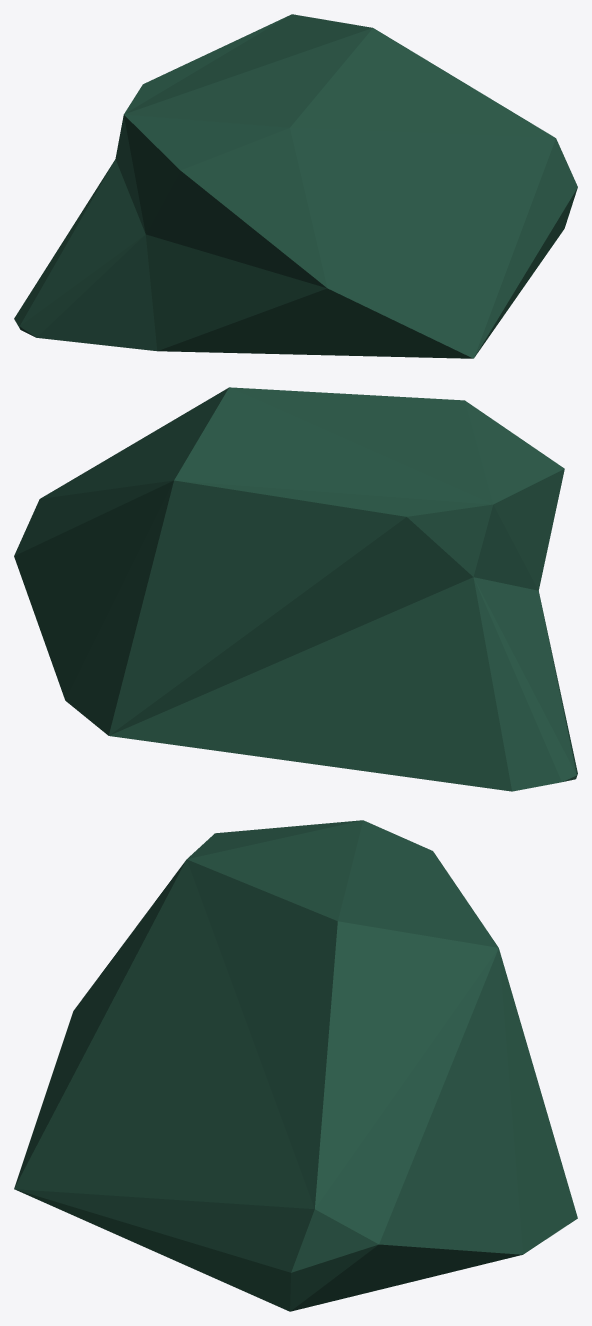
The model's file is Rock01.FBX.
3 views of the same model, one above another, from view 1: azimuth 30°, elevation 25°; view 2: azimuth 150°, elevation 25°; view 3: azimuth 270°, elevation 25° (orthographic). The views are drawn at different scales.
Visible parts, largest first — view 1: Capsule002; view 2: Capsule002; view 3: Capsule002.
Boxes of the visible parts, left/top/right/bottom form: Capsule002: left=14, top=14, right=577, bottom=358; Capsule002: left=14, top=387, right=577, bottom=791; Capsule002: left=14, top=820, right=577, bottom=1311.
Bounding box in the file's own units: 85.32 × 38.81 × 65.01.
